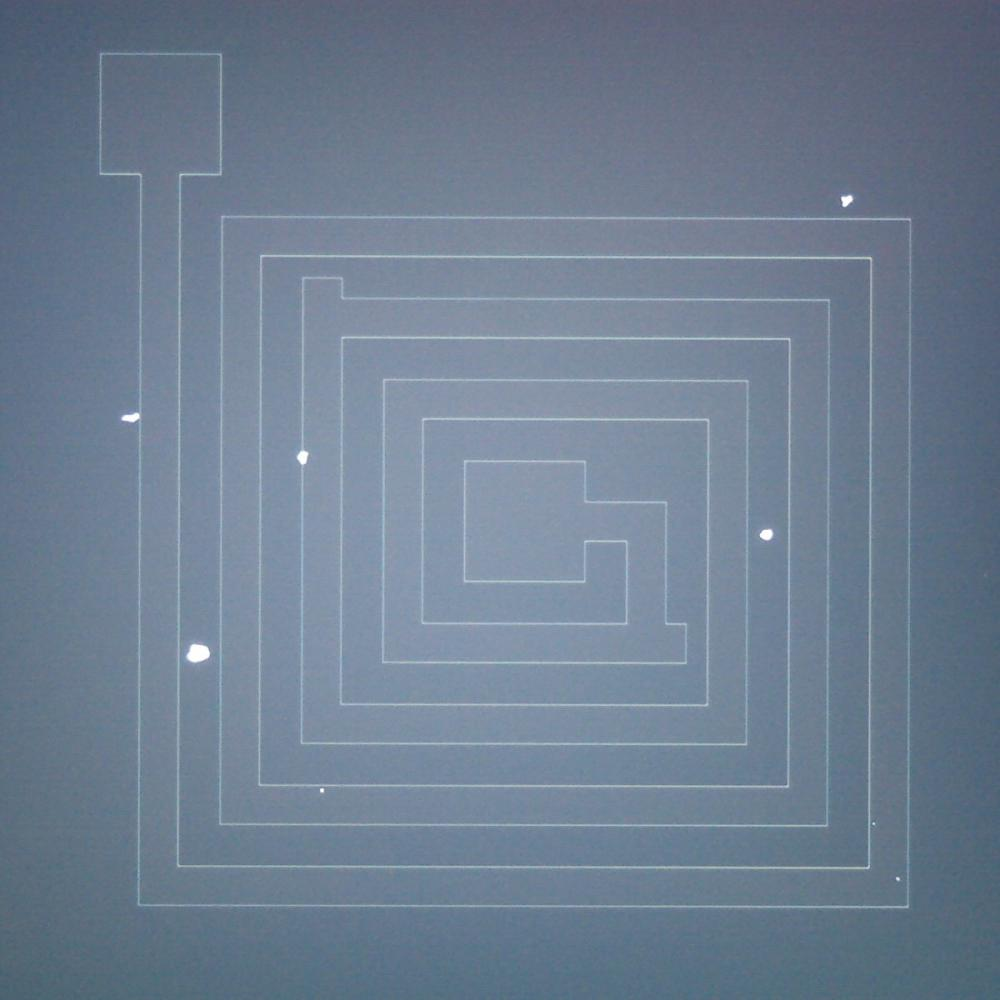Bdot: (187, 641, 211, 667)
dot: (295, 450, 310, 466), (761, 528, 773, 542), (841, 195, 853, 208), (130, 412, 139, 422), (121, 414, 129, 422), (896, 877, 900, 881), (320, 788, 324, 792), (872, 822, 876, 825)
